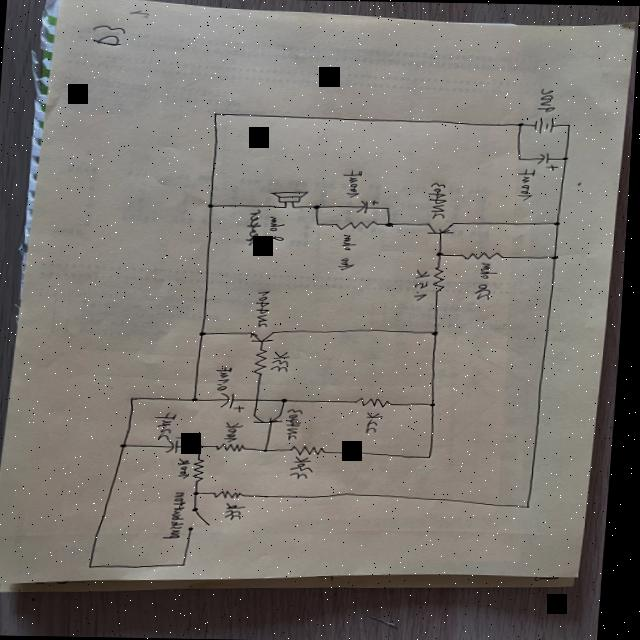capacitor: (222, 391, 251, 413), (168, 434, 193, 454), (538, 153, 560, 171), (357, 199, 381, 214)
crossover: (257, 397, 265, 403)
junction: (433, 329, 444, 337), (436, 250, 447, 258), (314, 203, 324, 210), (554, 220, 563, 227), (208, 202, 217, 209), (552, 254, 562, 260), (517, 121, 525, 128), (528, 504, 539, 509), (432, 402, 441, 408), (562, 156, 571, 162), (194, 396, 203, 402), (429, 454, 438, 460), (196, 491, 206, 496), (200, 444, 208, 450), (201, 331, 209, 337), (124, 442, 132, 448), (266, 447, 274, 453), (387, 222, 395, 228), (186, 561, 194, 567), (212, 111, 220, 117), (284, 398, 292, 403), (132, 396, 140, 401), (92, 564, 100, 569), (566, 122, 572, 128), (316, 222, 323, 226), (386, 206, 392, 210), (518, 157, 524, 161), (293, 205, 297, 209), (285, 206, 289, 210)
resistor: (337, 218, 378, 232), (294, 444, 332, 458), (461, 250, 506, 261), (256, 348, 273, 376), (433, 266, 449, 294), (358, 396, 395, 408), (219, 442, 251, 453), (217, 490, 250, 500), (197, 458, 210, 482)
source: (533, 116, 556, 134)
switch: (192, 506, 219, 530)
text: (166, 492, 193, 540), (475, 262, 501, 300), (427, 182, 450, 220), (246, 209, 267, 248), (155, 410, 182, 440), (515, 168, 537, 202), (256, 290, 275, 328), (291, 456, 319, 481), (339, 233, 358, 269), (288, 408, 308, 442), (414, 268, 433, 302), (343, 170, 364, 198), (266, 216, 287, 242), (538, 87, 557, 113), (218, 366, 237, 392), (274, 350, 295, 372), (228, 503, 251, 521), (368, 413, 386, 435), (229, 422, 246, 441), (182, 458, 196, 478)
transistor: (427, 221, 458, 235), (256, 412, 288, 425), (251, 330, 280, 344)
